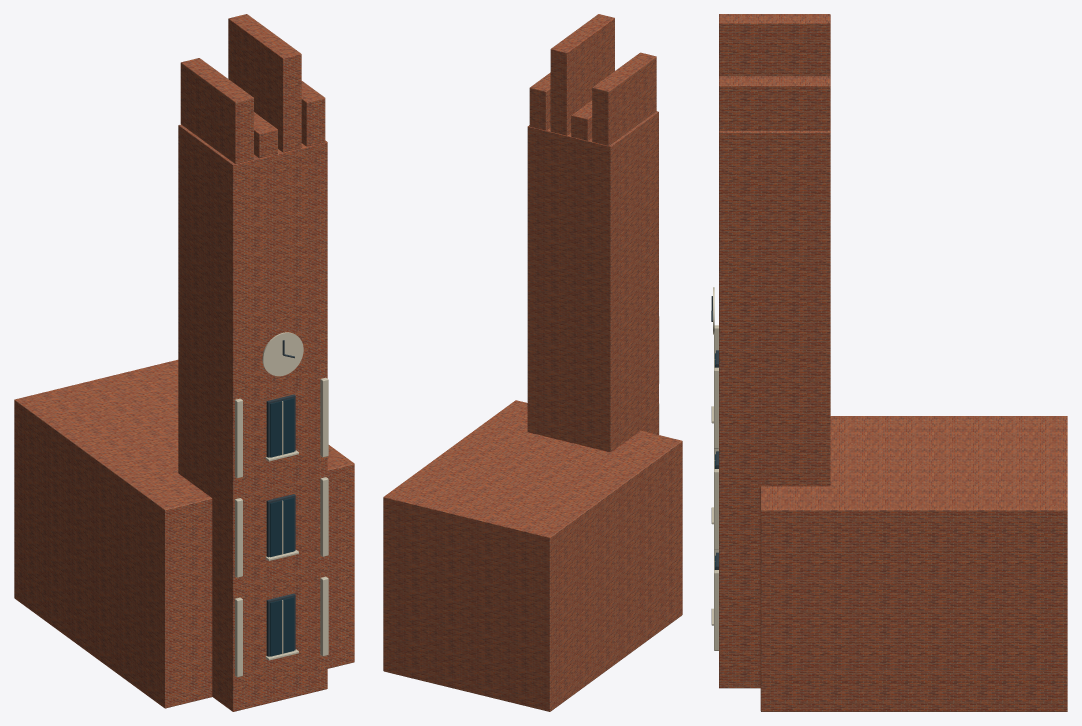
File: memorial-church.glb
3 renders of one model, left to right at view 1: azimuth 30°, elevation 25°; view 2: azimuth 150°, elevation 25°; view 3: azimuth 270°, elevation 25°, orthographic. The views are drawn at different scales.
Visible parts, largest first — view 1: DC_Mesh_DC_Brick, DC_Mesh_DC_Ivory, DC_Mesh_DC_BlueGlass, DC_Mesh_DC_Steel; view 2: DC_Mesh_DC_Brick; view 3: DC_Mesh_DC_Brick, DC_Mesh_DC_Ivory.
Part boxes in pixels (x1,y1,x2,y2): DC_Mesh_DC_Brick: [14, 14, 354, 711]; DC_Mesh_DC_Ivory: [235, 332, 328, 677]; DC_Mesh_DC_BlueGlass: [270, 398, 294, 656]; DC_Mesh_DC_Steel: [266, 340, 295, 656]; DC_Mesh_DC_Brick: [383, 14, 682, 711]; DC_Mesh_DC_Brick: [719, 14, 1067, 711]; DC_Mesh_DC_Ivory: [711, 287, 718, 650].
Size of the model in its own units: 8 by 25.8 by 12.77.
4 materials, 1 textured.
